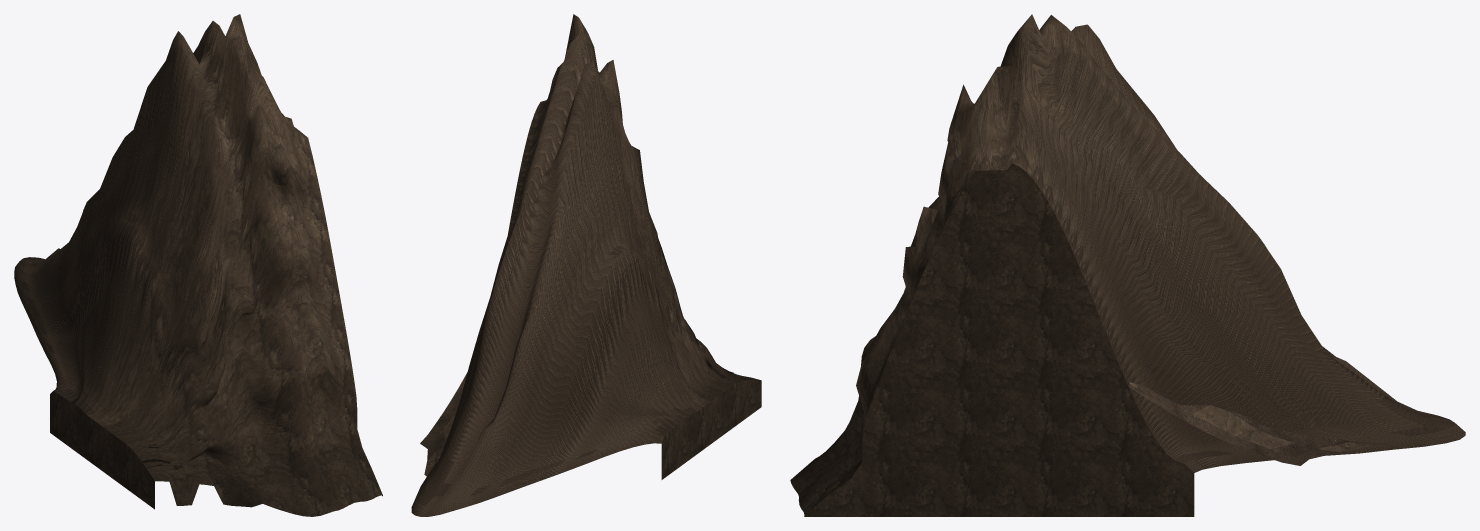
File: seacliff_endcap_left_h8_a_v5_dead.glb
3 renders of one model, left to right at view 1: azimuth 30°, elevation 25°; view 2: azimuth 150°, elevation 25°; view 3: azimuth 270°, elevation 25°, orthographic. The views are drawn at different scales.
Parts seen in each view (by area): view 1: seacliff_endcap_left_h8_a; view 2: seacliff_endcap_left_h8_a; view 3: seacliff_endcap_left_h8_a.
Boxes of the visible parts, bbox=[...] form: seacliff_endcap_left_h8_a: bbox=[14, 14, 382, 516]; seacliff_endcap_left_h8_a: bbox=[411, 14, 761, 516]; seacliff_endcap_left_h8_a: bbox=[790, 14, 1465, 516].
Size of the model in its own units: 6 by 13.06 by 16.72.
2 materials, 2 textured.
